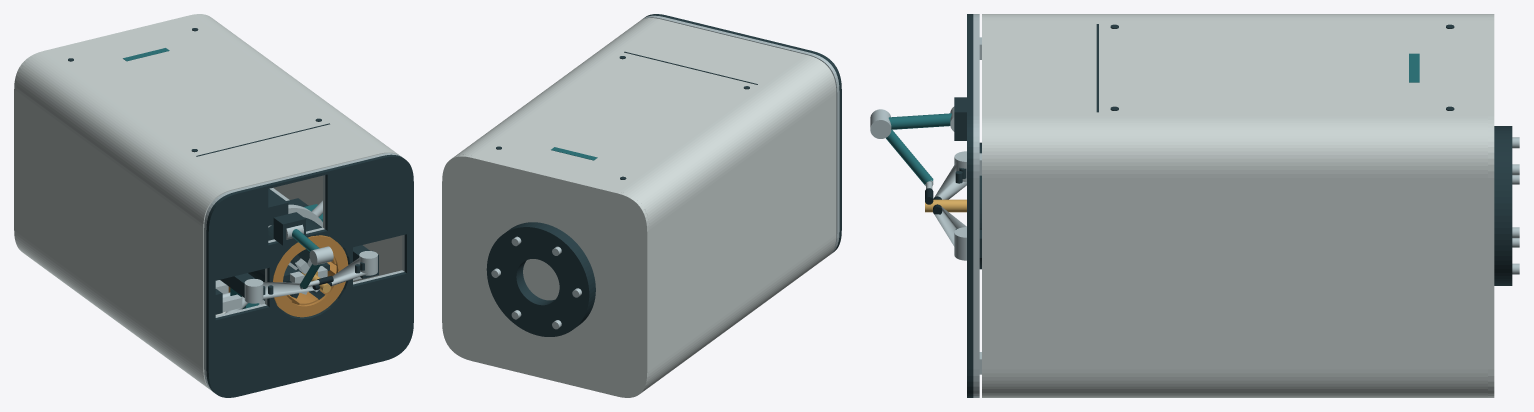
File: m6-integrated-review.glb
The picture shows the model from 3 angles, left to right: view 1: azimuth 30°, elevation 25°; view 2: azimuth 150°, elevation 25°; view 3: azimuth 270°, elevation 25°; orthographic projection. The views are drawn at different scales.
Parts seen in each view (by area): view 1: hollow-perimeter-cover, front-plate-with-working-ports, chuck-front-rim, common-front-structural-plate, rear-service-cap, straight-tapered-finger (×2), supported-fold-hinge (×2), thumb-base-mount, stationary-chuck-bearing-seat, thumb-drive-housing, finger-side-column, thumb-joint-1; view 2: hollow-perimeter-cover, rear-service-cap, robot-mount-flange, common-front-structural-plate, front-plate-with-working-ports; view 3: hollow-perimeter-cover, robot-mount-flange, front-plate-with-working-ports, rear-service-cap, common-front-structural-plate, thumb-proximal, thumb-distal, thumb-base-mount.
Boxes of the visible parts, x1,y1,x2,y2 form: hollow-perimeter-cover: (16,15,402,389); front-plate-with-working-ports: (206,154,413,397); chuck-front-rim: (273,235,348,317); common-front-structural-plate: (204,153,404,391); rear-service-cap: (14,14,211,251); straight-tapered-finger (×2): (262,257,367,299); supported-fold-hinge (×2): (244,251,377,303); thumb-base-mount: (273,212,305,245); stationary-chuck-bearing-seat: (248,217,346,317); thumb-drive-housing: (268,189,288,225); finger-side-column: (220,273,255,297); thumb-joint-1: (309,246,333,265); hollow-perimeter-cover: (454,18,836,391); rear-service-cap: (442,154,649,397); robot-mount-flange: (486,222,595,336); common-front-structural-plate: (641,15,839,254); front-plate-with-working-ports: (644,14,841,252); hollow-perimeter-cover: (982,14,1487,397); robot-mount-flange: (1494,126,1512,285); front-plate-with-working-ports: (967,14,973,397); rear-service-cap: (1488,14,1494,397); common-front-structural-plate: (973,14,979,397); thumb-proximal: (888,113,951,129); thumb-distal: (886,130,933,184); thumb-base-mount: (954,97,966,140).
Size of the model in its own units: 0.152 by 0.145 by 0.3079.
